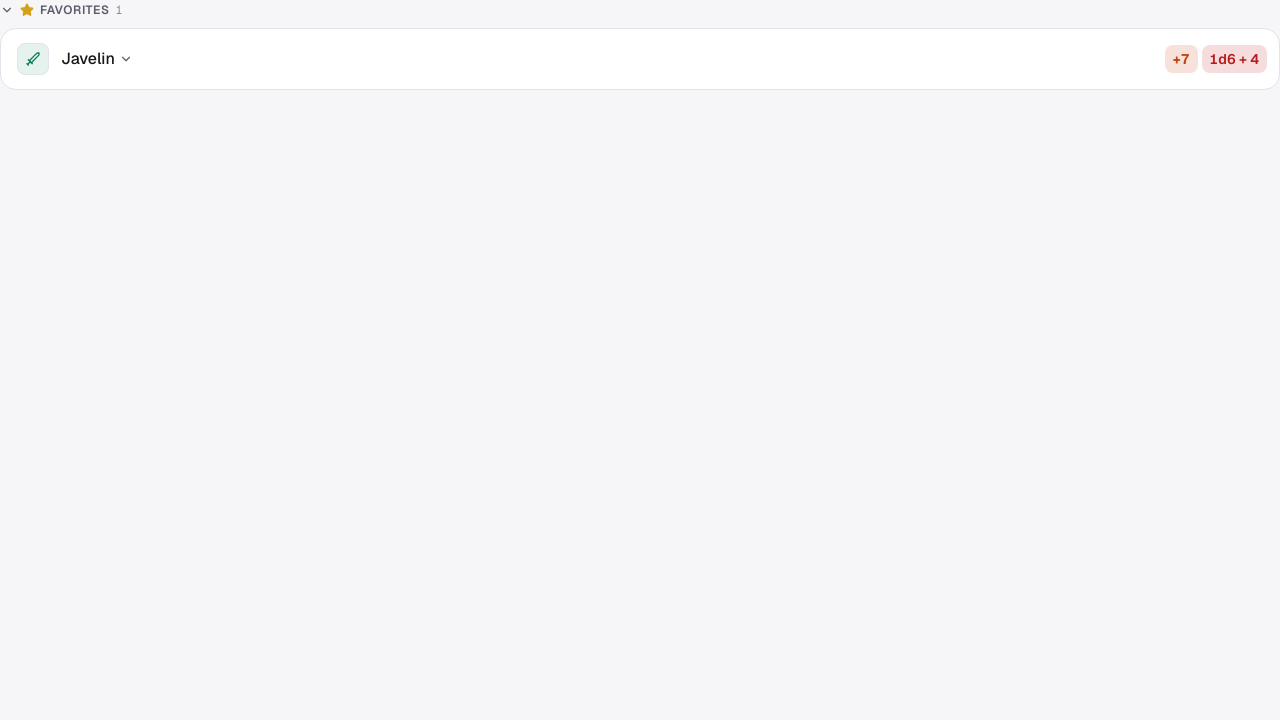
Test: components/character-sheet/favorites › opens what there is to read of an item's other activities from beside each, as its tab does
This screenshot has width=1280, height=720.
Click the button "Javelin".
click(33, 59)  # box [11,41,1157,77]
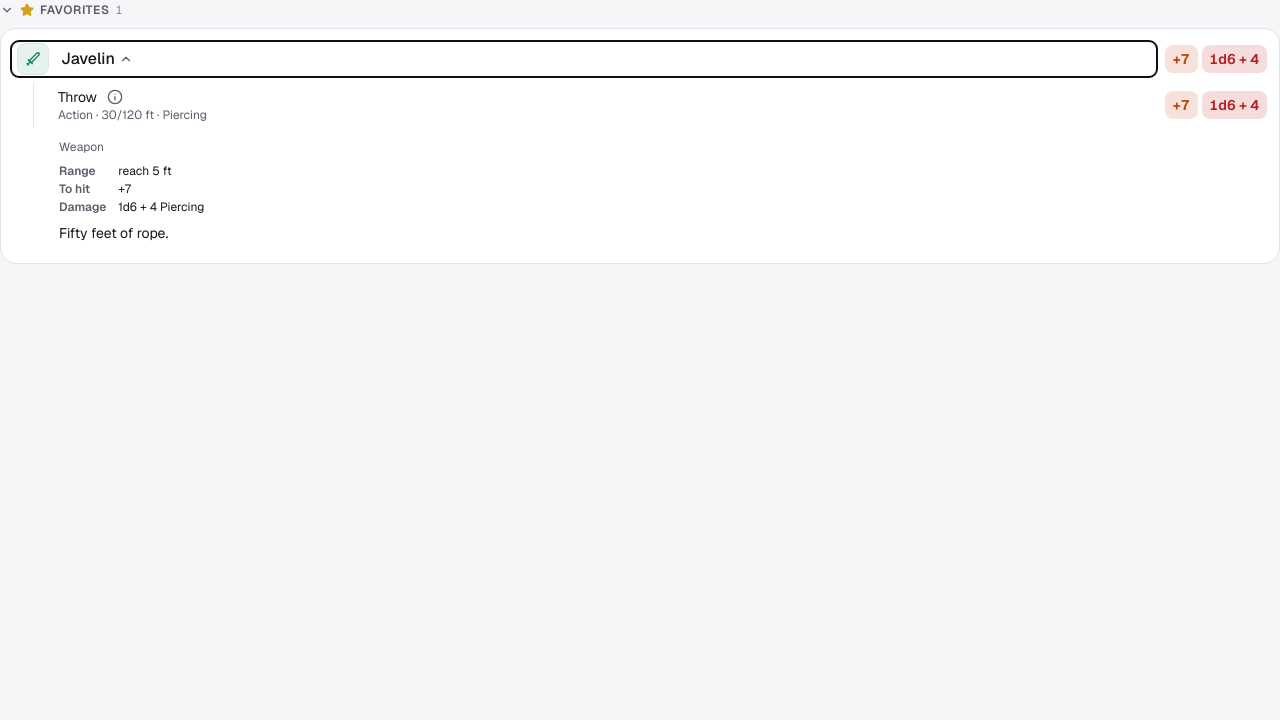
Now the list item reads "Throw Action · 30/120 ft · Piercing +7 1d6 + 4", box [58,83,1273,127]
Click the button named "About Javelin (Throw)".
click(115, 97)  # box [101,83,129,111]
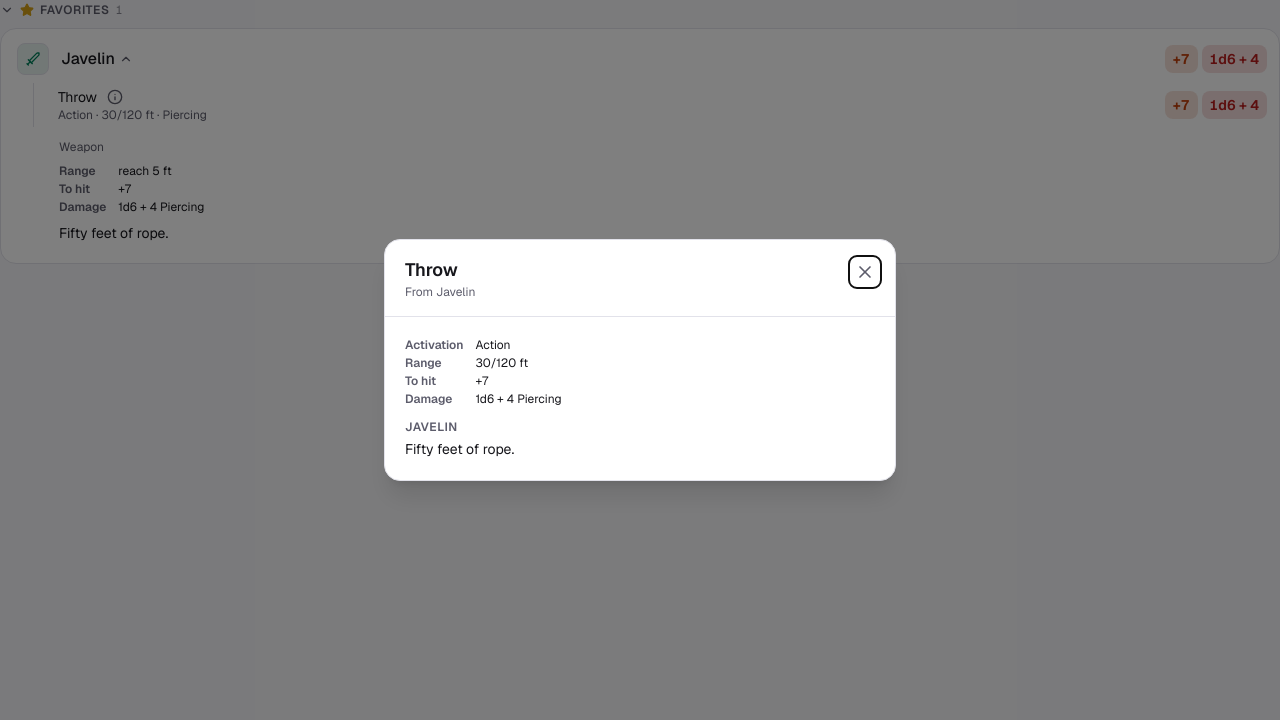
Now the text "From Javelin" is shown, box [405,284,475,300]
Now the text "Fifty feet of rope." is shown, box [405,440,514,458]
